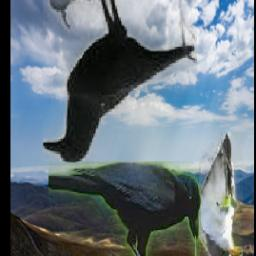Crow: (43, 0, 197, 164), (49, 162, 201, 256)
Cuckoo: (199, 132, 243, 256)
